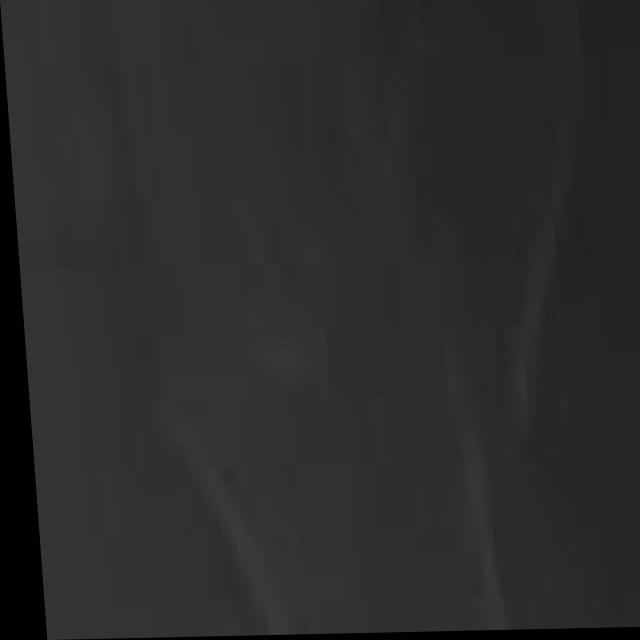fracture: (26, 0, 640, 633)
